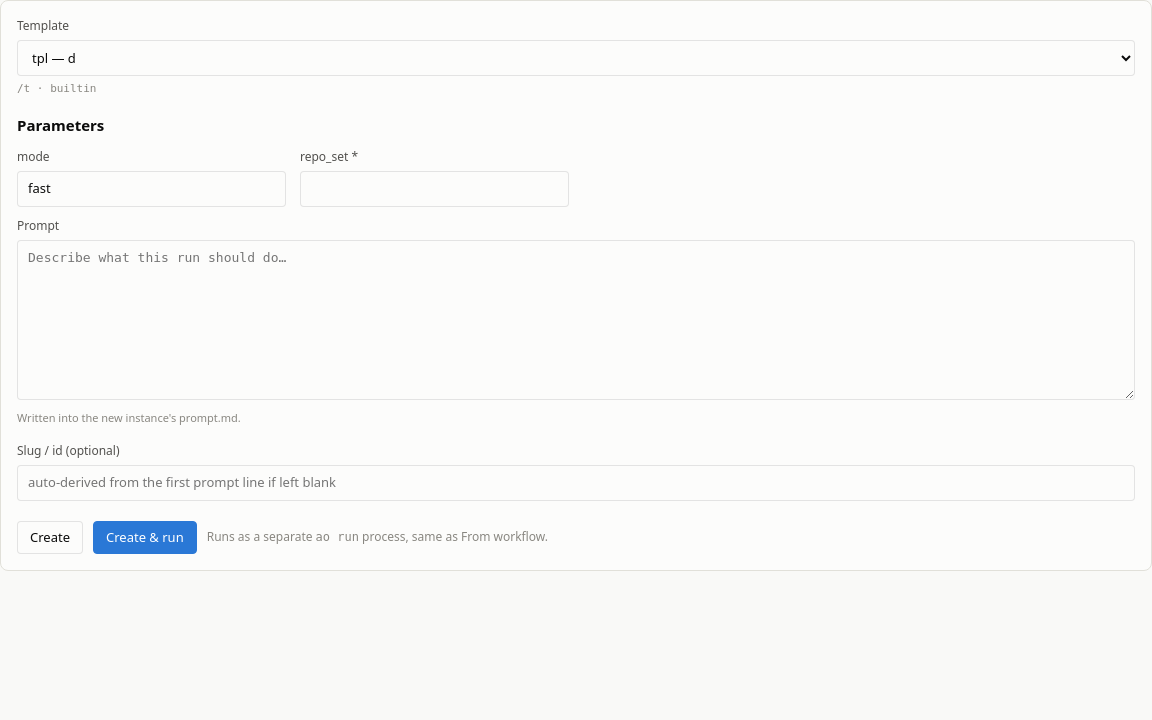
it: TemplateLaunch extras › prefills declared defaults, edits prompt and slug, and posts them
Expected: the field labelled "mode" holds "fast", [17,171,286,206]
In the field labelled "repo_set *": x=434, y=189 [300,171,569,206], type "fin-plan"
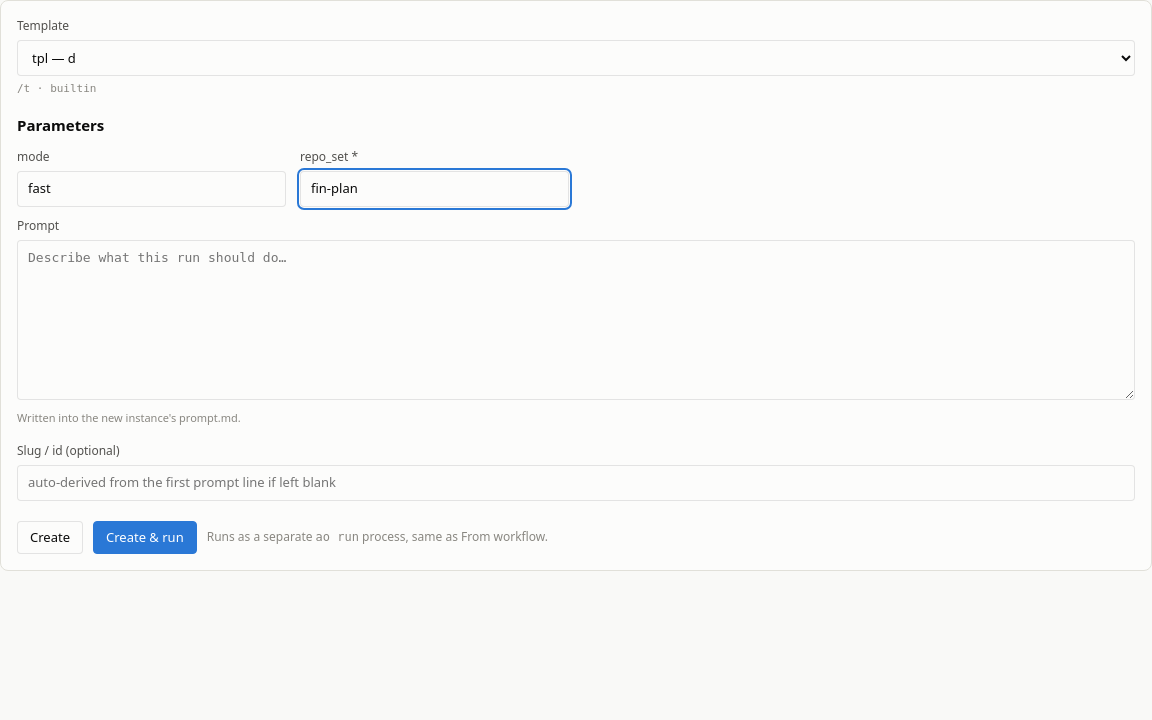
In the text box labelled "Prompt": x=576, y=320 [17,240,1135,400], type "do it"
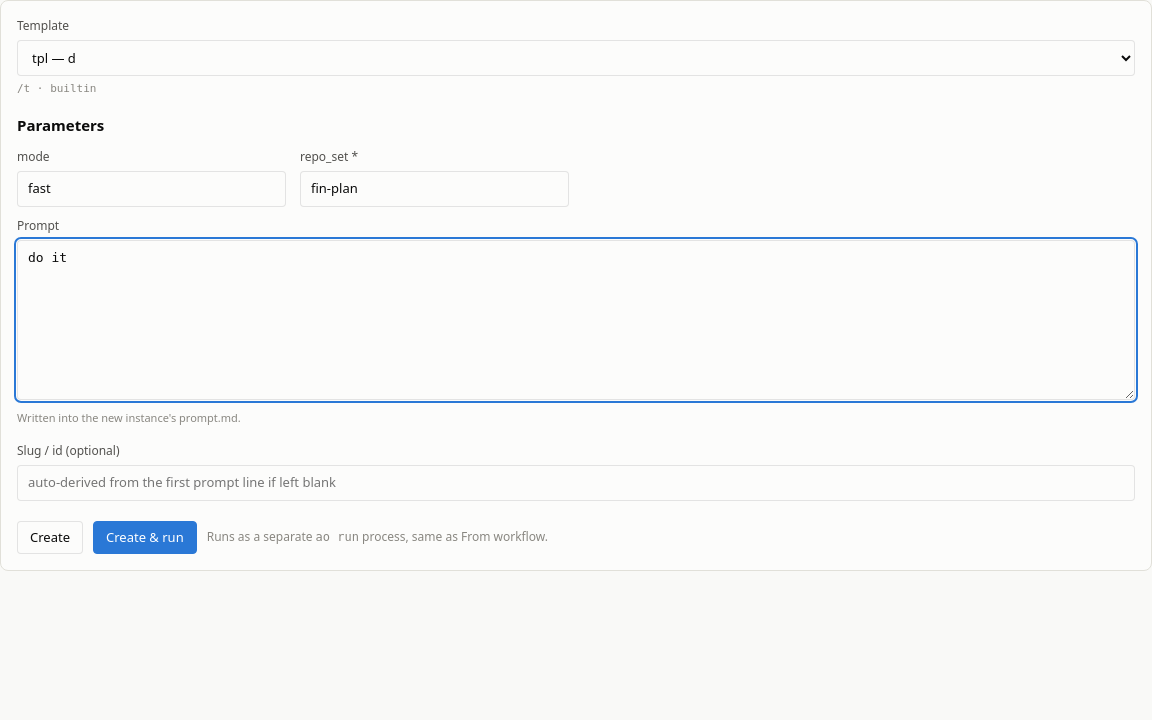
In the field labelled "Slug / id (optional)": x=576, y=483 [17,465,1135,500], type "my-slug"
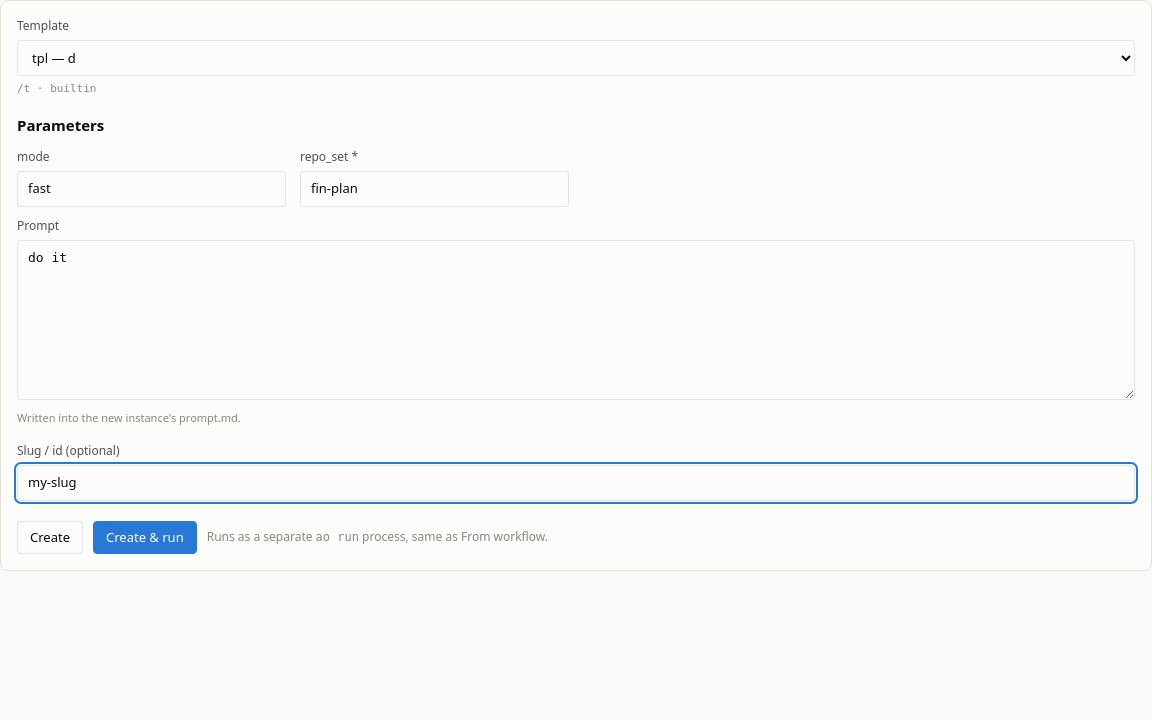
Click the button "Create & run": x=145, y=537 [93,520,197,554]
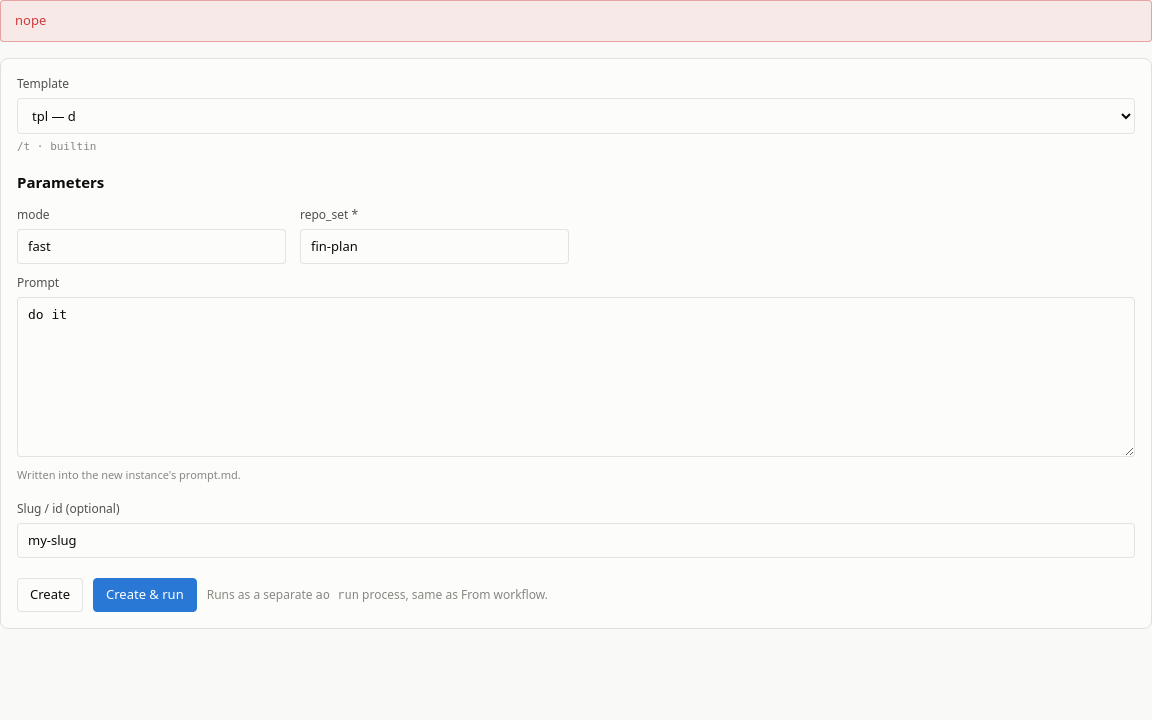
Expected: the message reads "nope", [15,11,46,29]
